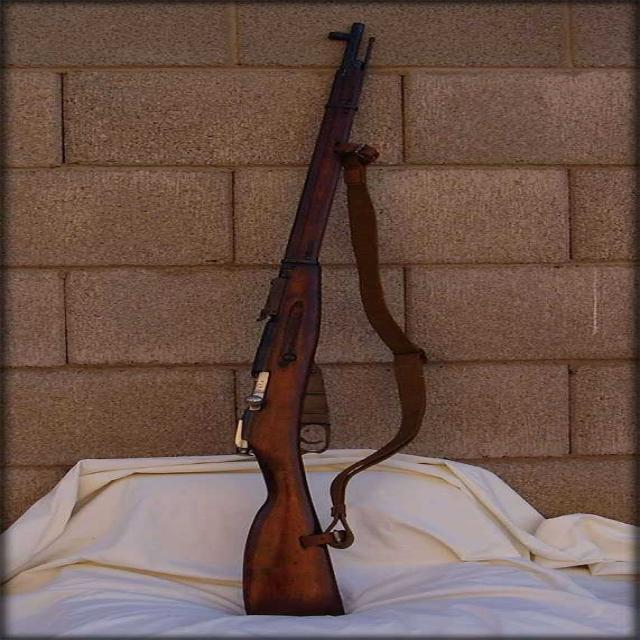heavyweapon: (213, 16, 443, 625)
